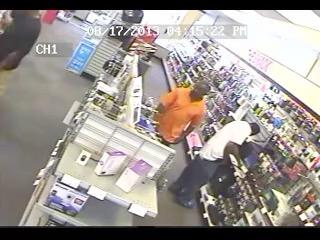shoplifting: (210, 146, 250, 204)
